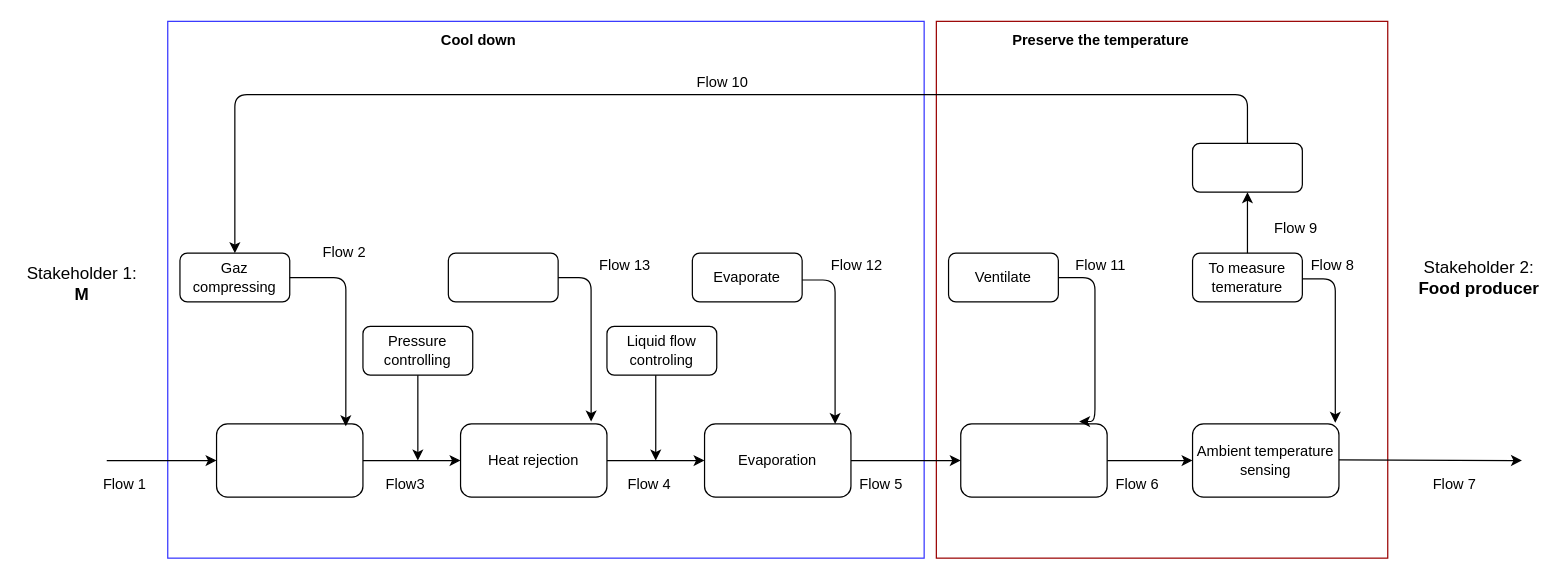
The diagram is 1566 pixels wide and 580 high, and some of its shapes have lost their labels. The shapes that lost their labels are listed below. From the top down, each one's box as (x1, y1, x2, y2) in pixels, then its label:
(1191, 142, 1302, 192): control start-stop
(447, 252, 558, 302): Condense
(215, 423, 363, 497): Vapor constriction
(960, 423, 1107, 497): cold air circulation
